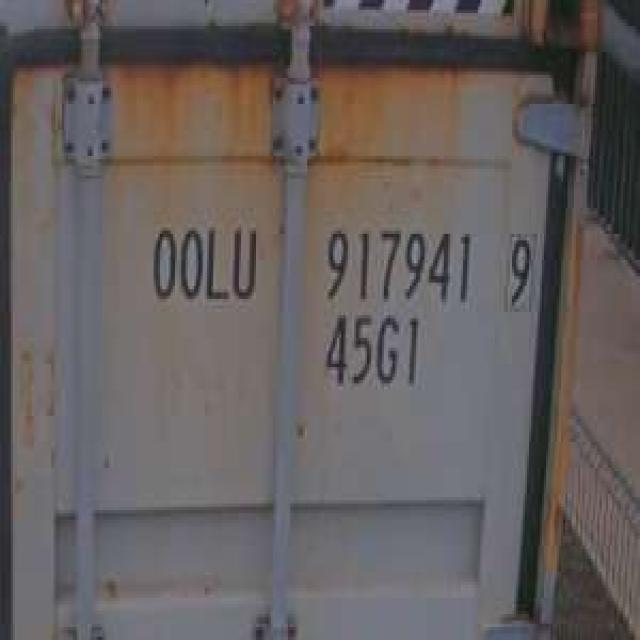dv: (499, 221, 540, 318)
owner: (143, 211, 262, 309)
serial: (316, 214, 478, 306)
size: (318, 306, 424, 400)
